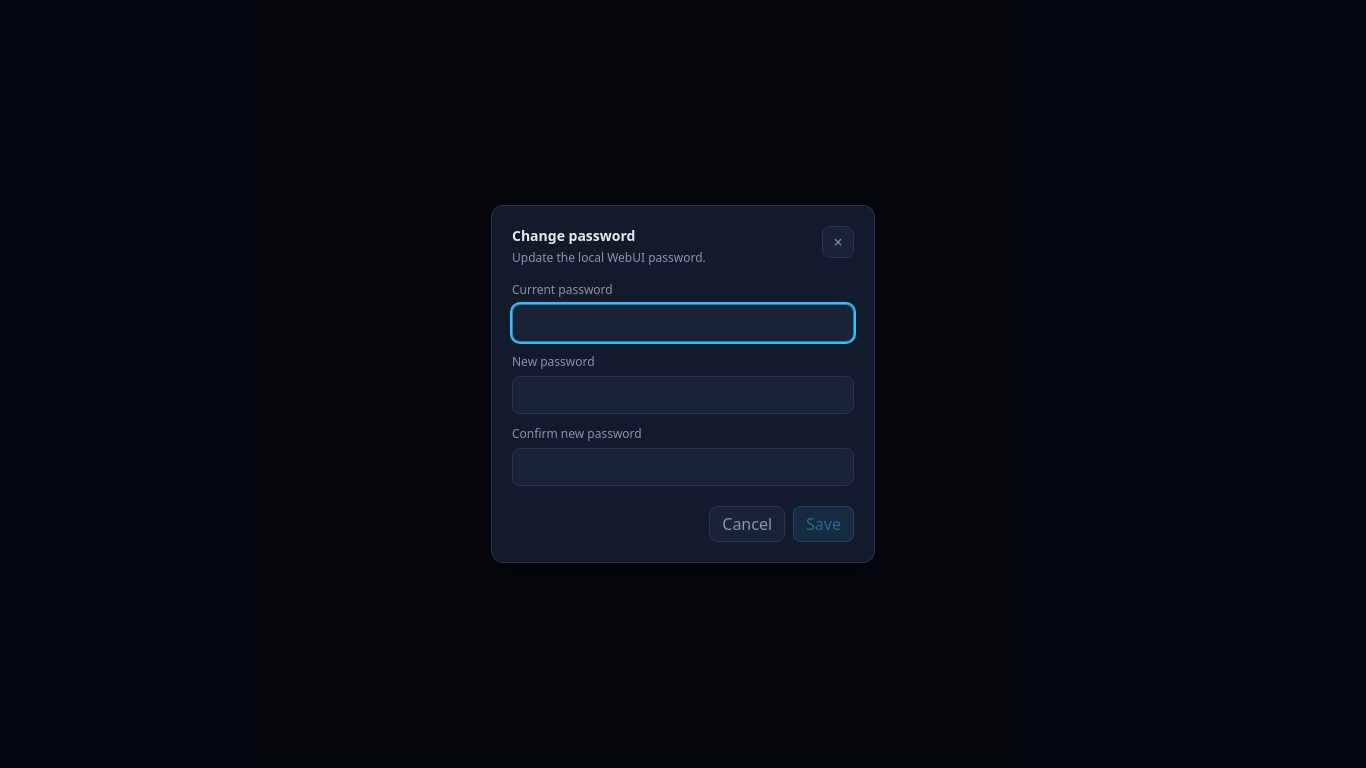
ChangePasswordModal › inline validation messages › shows 'Enter current password' when only new password is filled
Step 1. Type "newpass123" into the password field labelled "New password" → (683, 395), box [512,376,854,414]
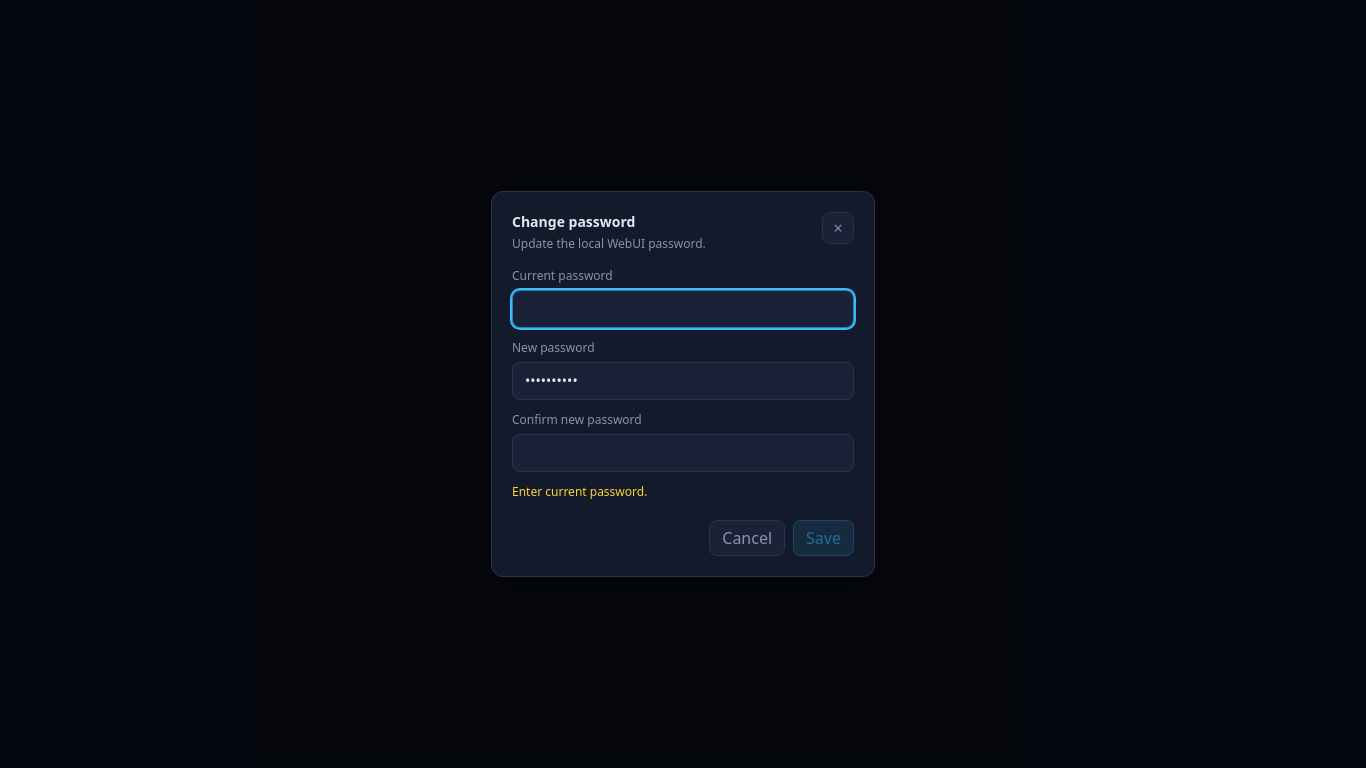
Now the text "Enter current password." is shown, box [512,483,647,500]
